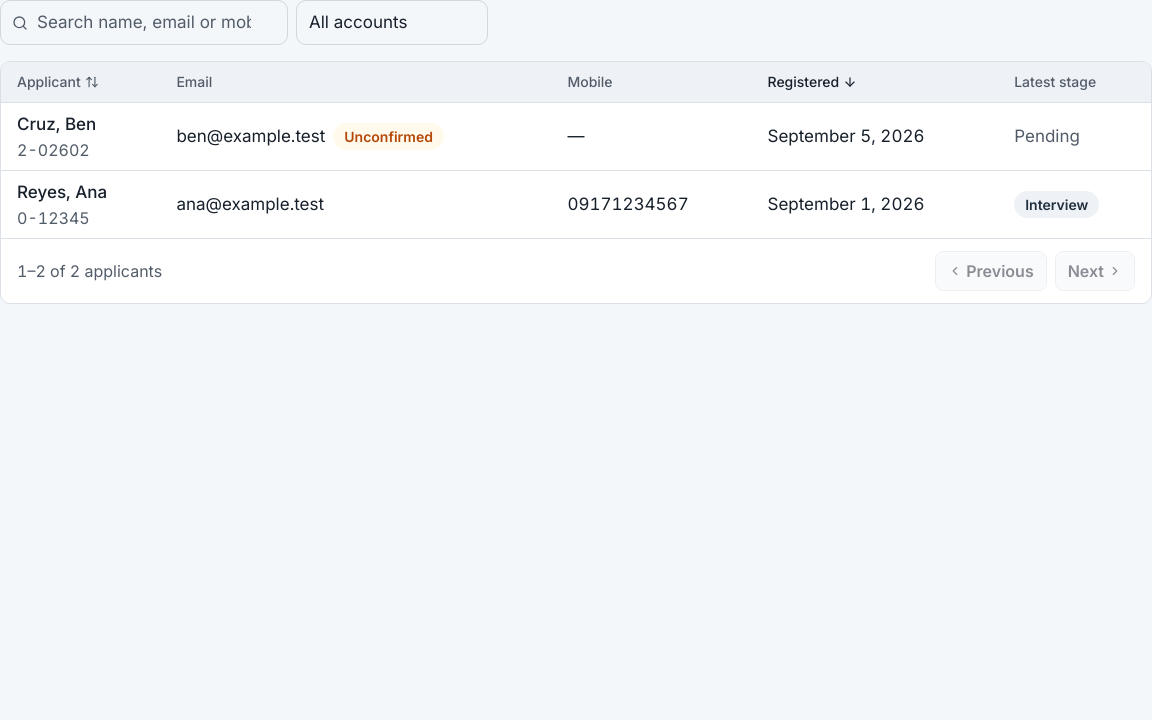
HrRegisteredApplicants › opens a contact drawer for someone who has not applied
Click the button "Cruz, Ben": (57, 124) top-left (17, 111), bottom-right (96, 138)
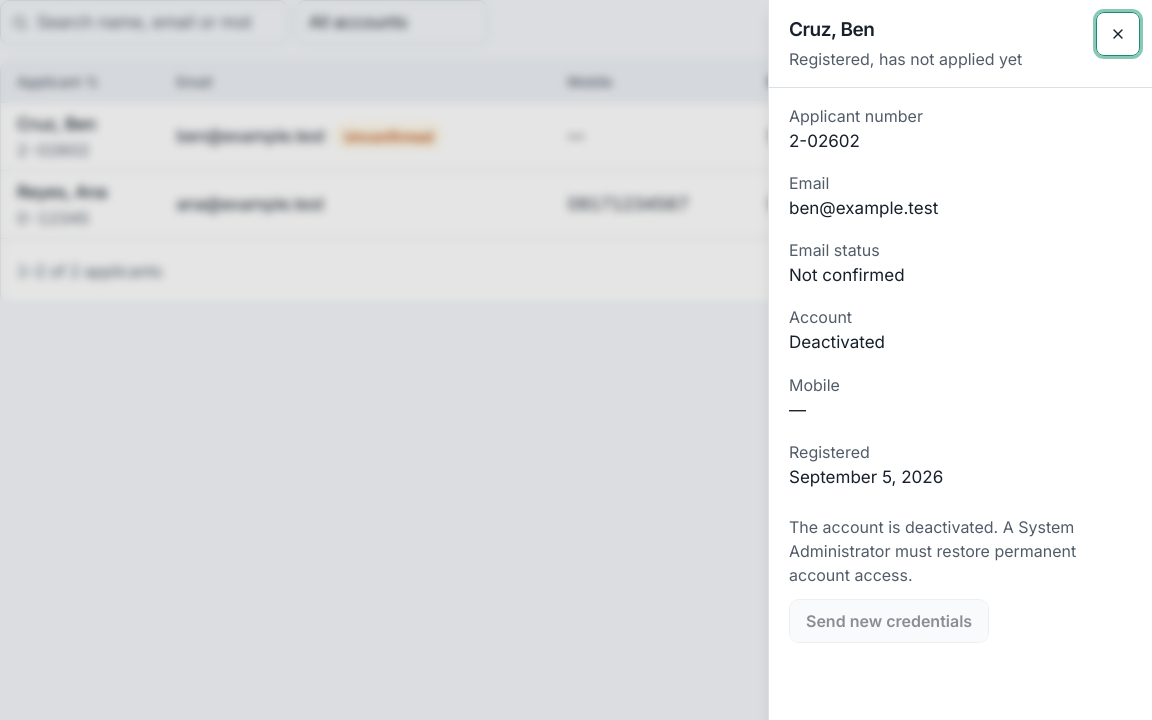
Expected: the dialog "Cruz, Ben" shows "ben@example.test", top-left (789, 198), bottom-right (938, 218)
Expected: the dialog "Cruz, Ben" shows "Not confirmed", top-left (789, 265), bottom-right (905, 285)
Expected: the dialog "Cruz, Ben" shows "2-02602", top-left (789, 131), bottom-right (860, 151)
